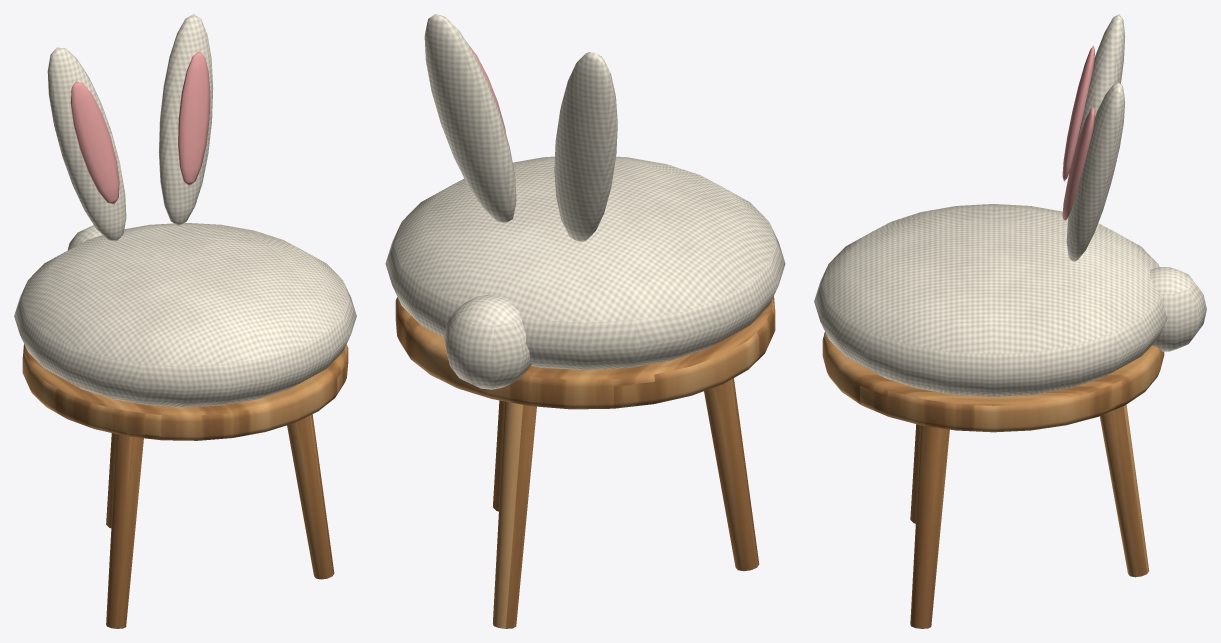
The model's file is bunny_stool.glb.
The picture shows the model from 3 angles, left to right: view 1: azimuth 30°, elevation 25°; view 2: azimuth 150°, elevation 25°; view 3: azimuth 270°, elevation 25°; orthographic projection. The views are drawn at different scales.
Parts seen in each view (by area): view 1: model; view 2: model; view 3: model.
Part boxes in pixels (left/top/right/bottom): model: left=14, top=14, right=356, bottom=628; model: left=385, top=14, right=785, bottom=628; model: left=814, top=14, right=1206, bottom=628.
Size of the model in its own units: 0.42 by 0.6781 by 0.46.
Materials: 3 (3 with a texture image).
